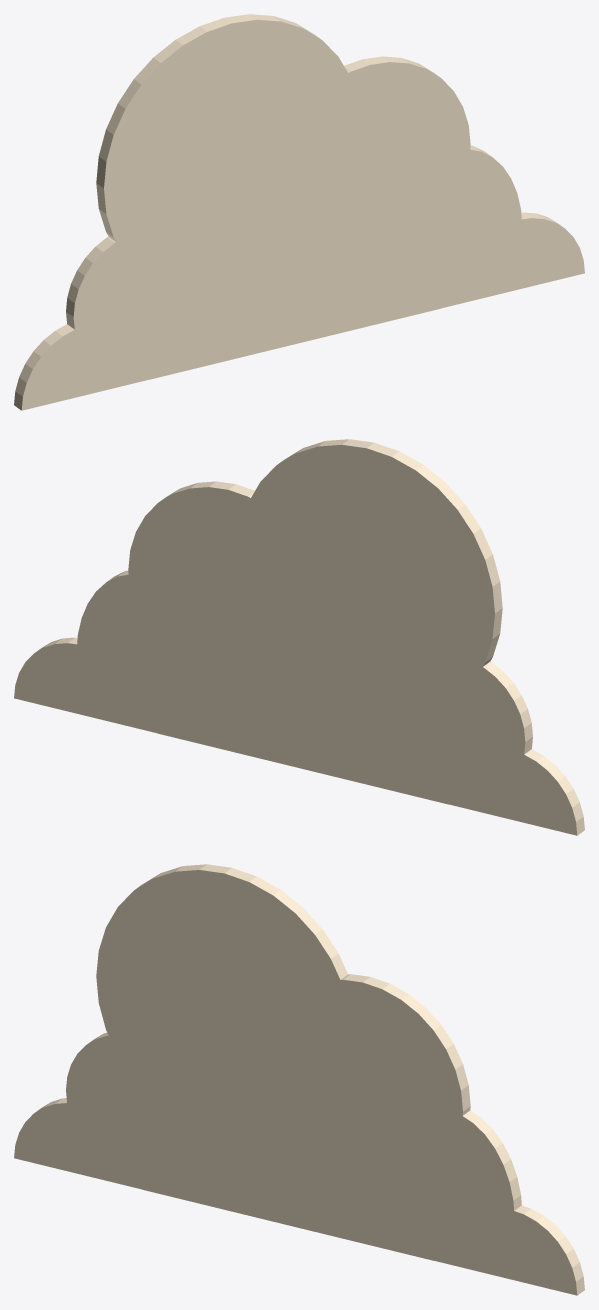
File: cloud2.obj
3 renders of one model, top to bottom at view 1: azimuth 30°, elevation 25°; view 2: azimuth 150°, elevation 25°; view 3: azimuth 330°, elevation 25°, orthographic.
Parts seen in each view (by area): view 1: 立方体.001; view 2: 立方体.001; view 3: 立方体.001.
Boxes of the visible parts, x1,y1,x2,y2 form: 立方体.001: (14,14,584,410); 立方体.001: (14,439,584,835); 立方体.001: (14,864,584,1295).
Bounding box in the file's own units: 4.8 × 2.74 × 0.1134.
Materials: 1 (1 with a texture image).
